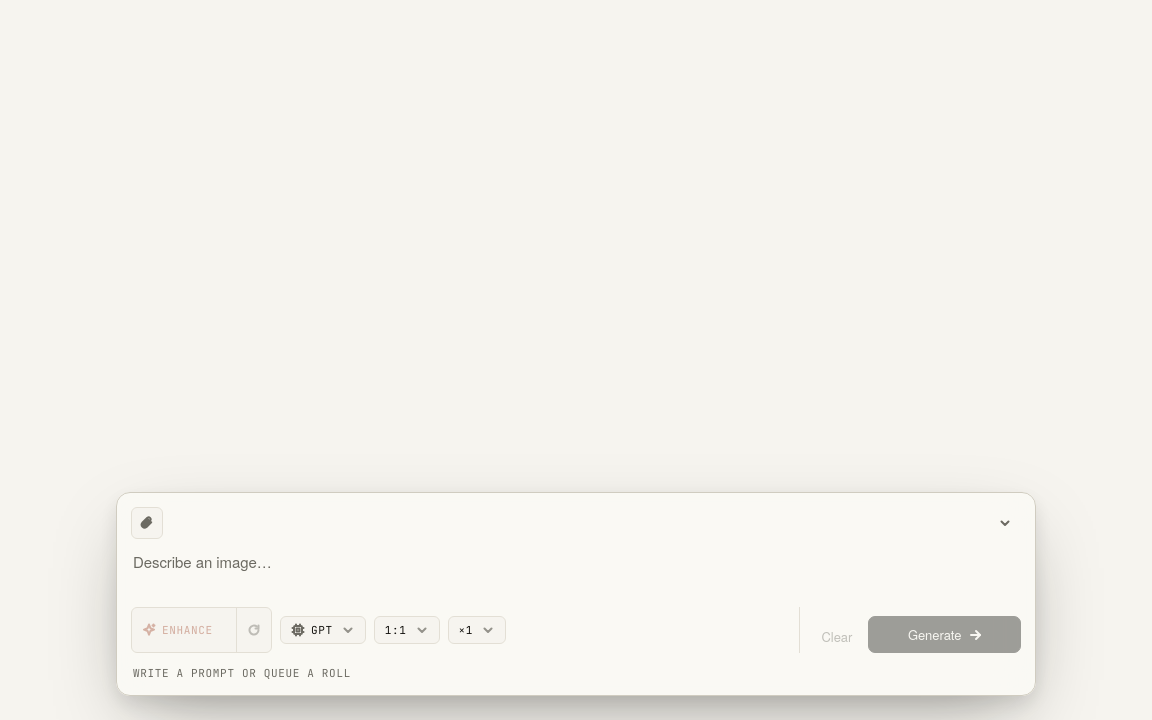
Test: Composer minimized bar (desktop) › a pointer landing outside an empty, never-focused composer minimizes it
The image size is (1152, 720).
Fresh load: nothing inside the composer has had focus, so blur cannot fire.
Press the mouse on the element that starts with "Enhance" at (576, 360), box [0,0,1151,719]
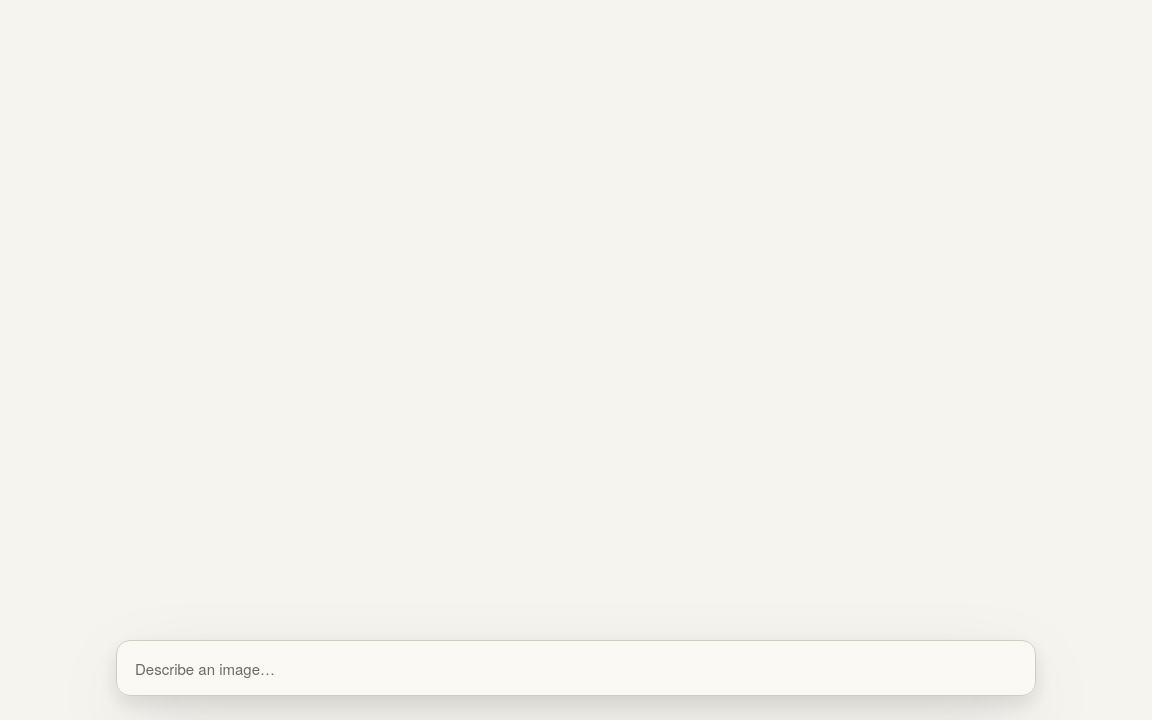
Check: the button with aria-label "Expand composer" is shown, box [125,646,1027,690]
Check: the message "prompt" is gone
